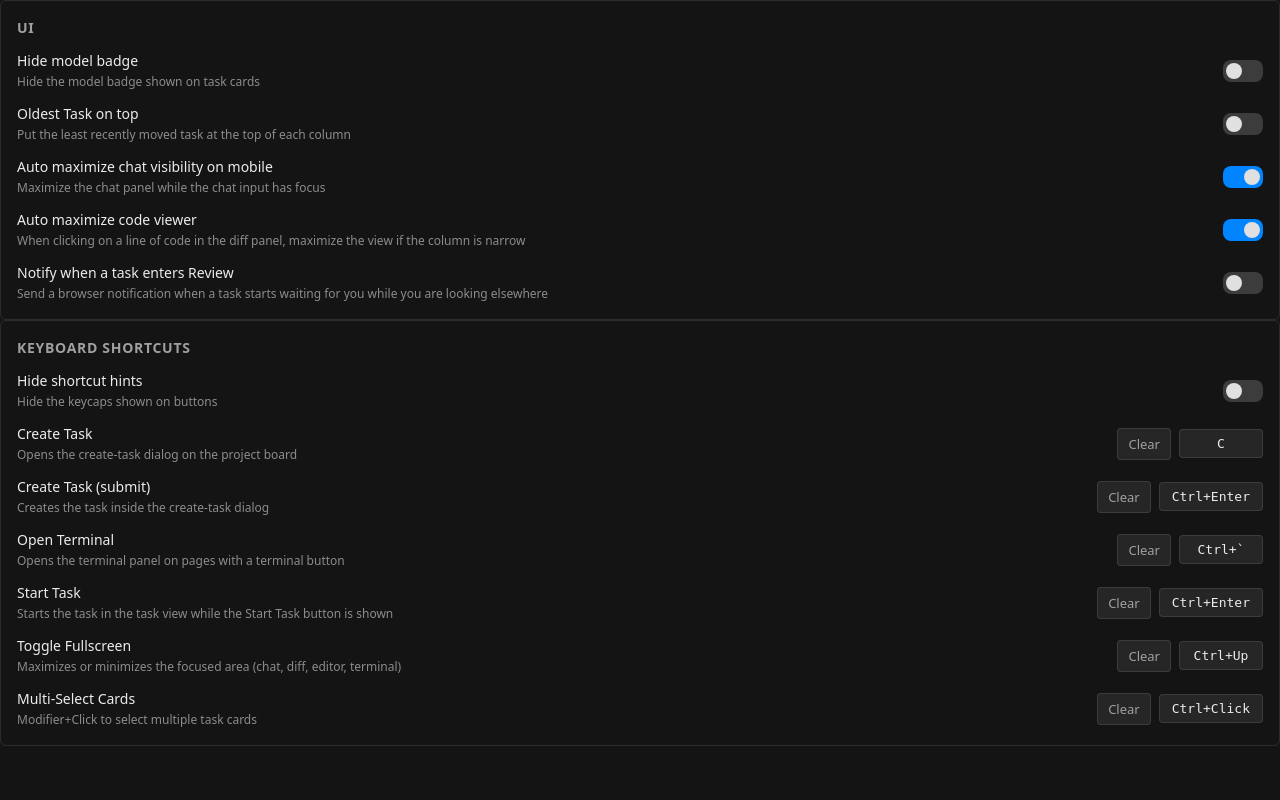
Test case: PreferencesTab create-task row › captures a pressed key and assigns it as the new binding
This screenshot has width=1280, height=800.
Click the button named "create task shortcut" at [1221, 444], box [1179,429,1263,458]
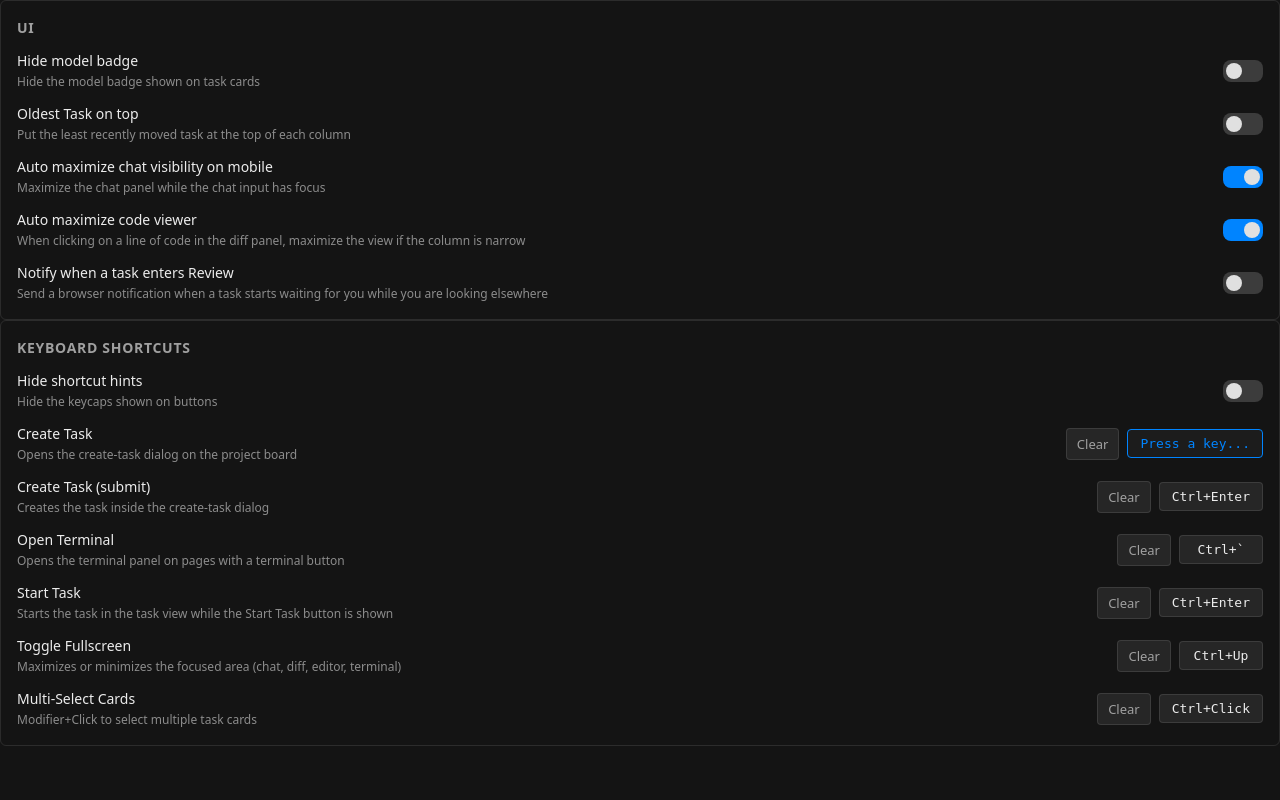
Check: the button with aria-label "create task shortcut" reads "Press a key...", box [1127,429,1263,458]
Press K
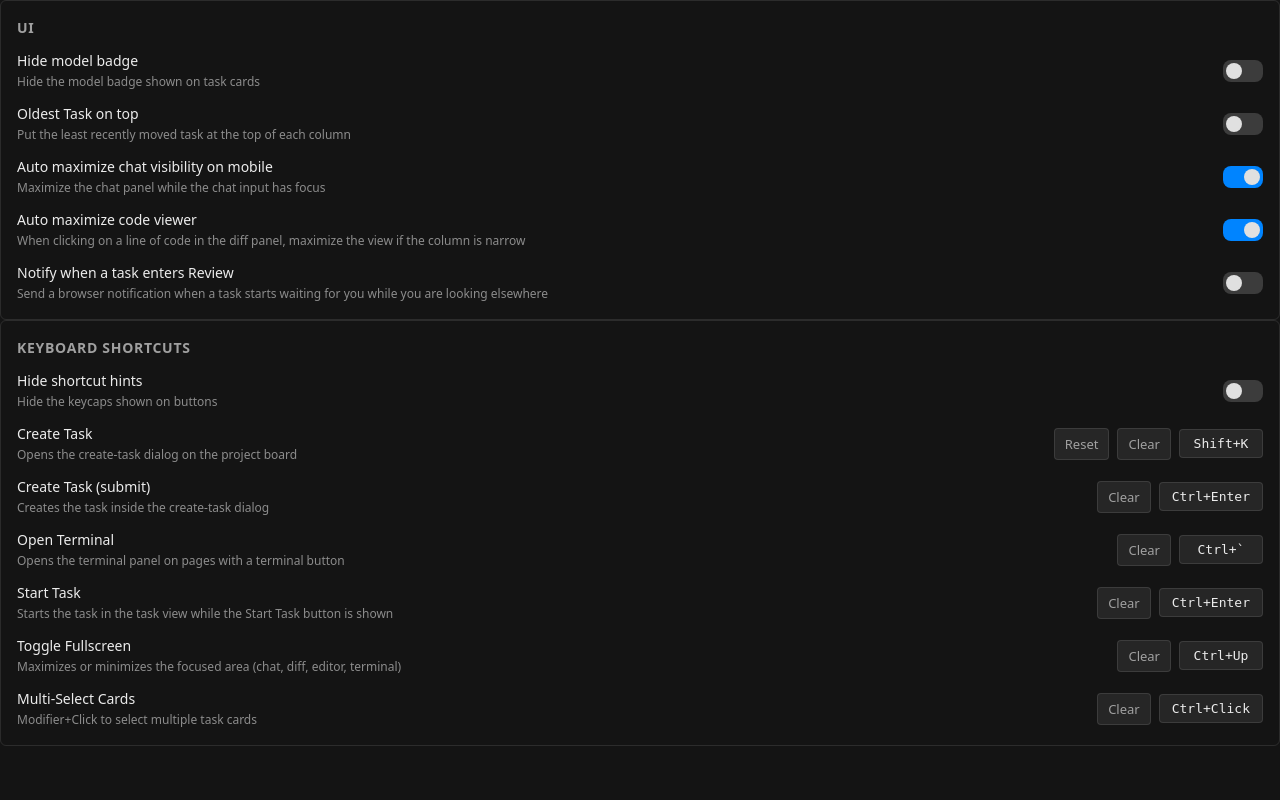
Check: the button with aria-label "create task shortcut" reads "Shift+K", box [1179,429,1263,458]
